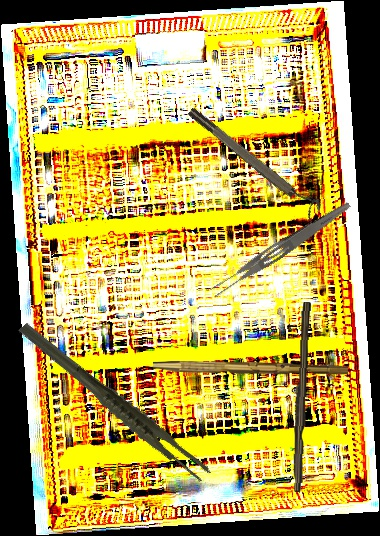Dressing Forceps: (207, 194, 354, 302)
Fixation Ring: (185, 99, 325, 222)
Scalpel Handle: (290, 301, 311, 493), (153, 361, 348, 376)
Tissue Forceps: (16, 292, 213, 511)
